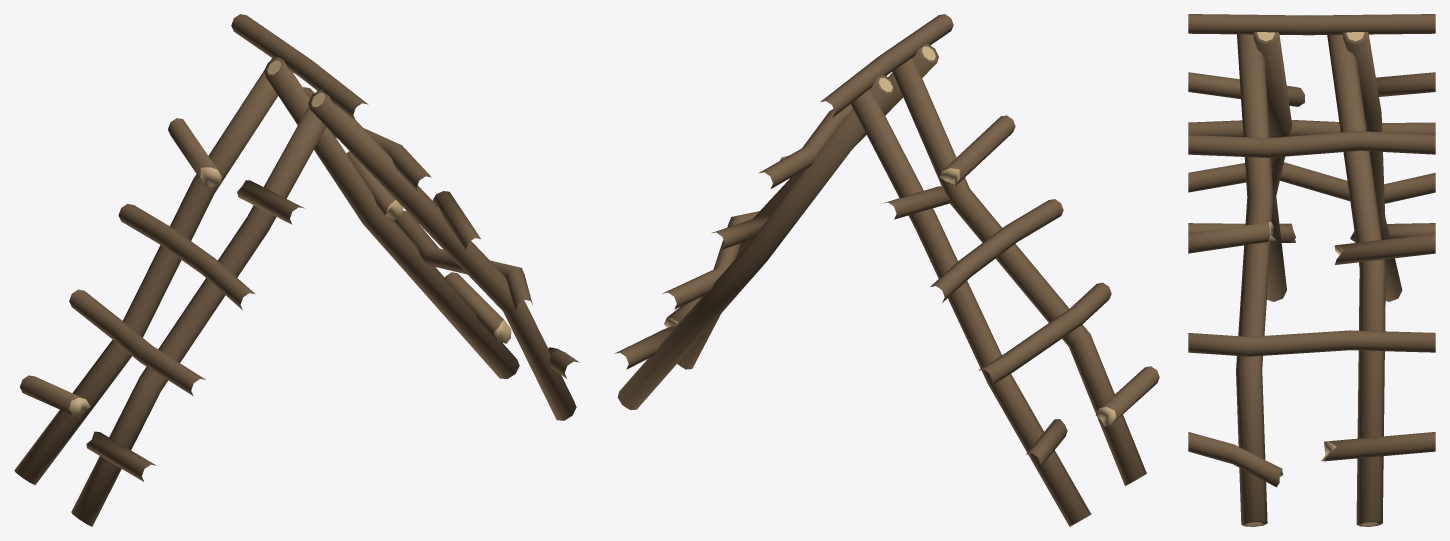
Rendered from rpgpp_av_roof_support_01_6x5x3_a.gltf.
3 renders of one model, left to right at view 1: azimuth 30°, elevation 25°; view 2: azimuth 150°, elevation 25°; view 3: azimuth 270°, elevation 25°, orthographic. The views are drawn at different scales.
Visible parts, largest first — view 1: rpgpp_av_roof_support_01_6x5x3_a; view 2: rpgpp_av_roof_support_01_6x5x3_a; view 3: rpgpp_av_roof_support_01_6x5x3_a.
Boxes of the visible parts, <box> form: rpgpp_av_roof_support_01_6x5x3_a: <box>14,14,579,526</box>; rpgpp_av_roof_support_01_6x5x3_a: <box>615,14,1159,526</box>; rpgpp_av_roof_support_01_6x5x3_a: <box>1188,14,1435,526</box>.
Size of the model in its own units: 0.0698 by 0.0537 by 0.03.
1 material, 1 textured.
